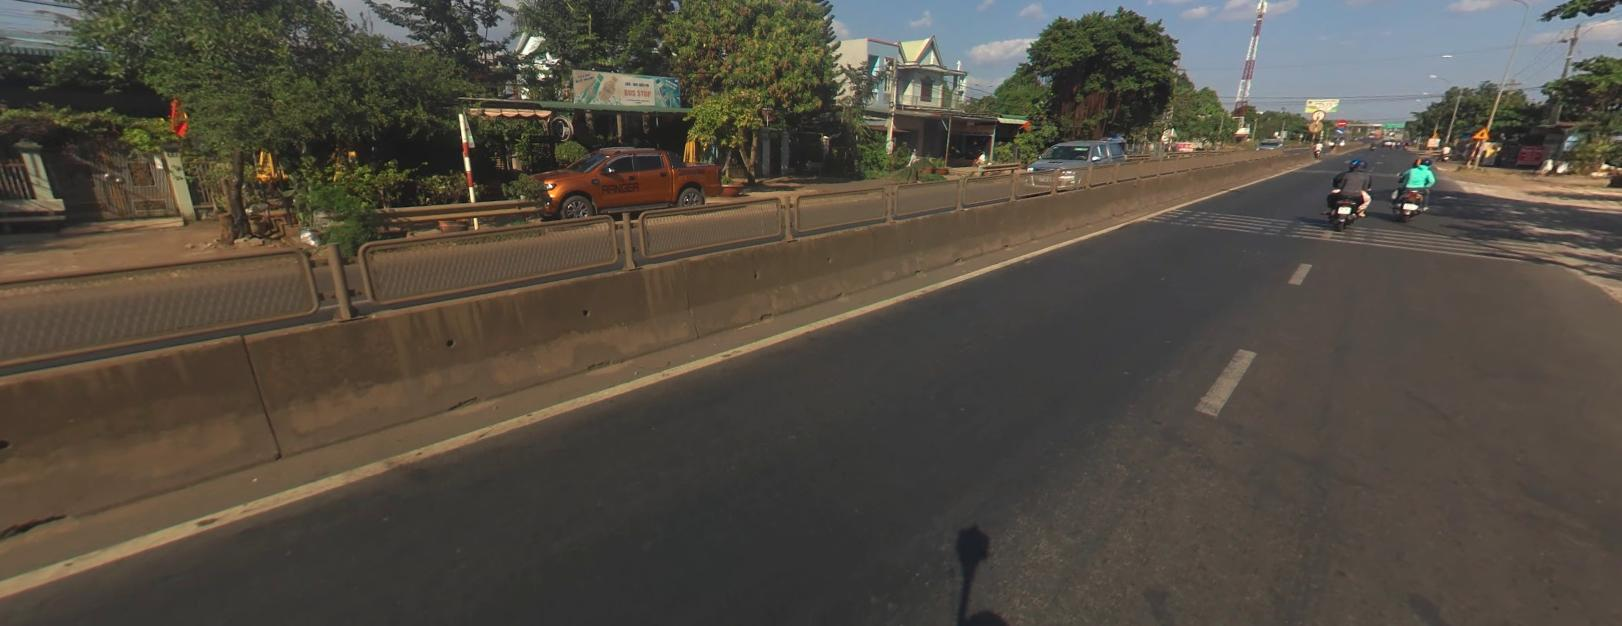Cam nguoc chieu: (1336, 118, 1346, 125)
Hieu lenh: (1334, 126, 1343, 135)
Nguy hiem: (1471, 123, 1489, 138)
